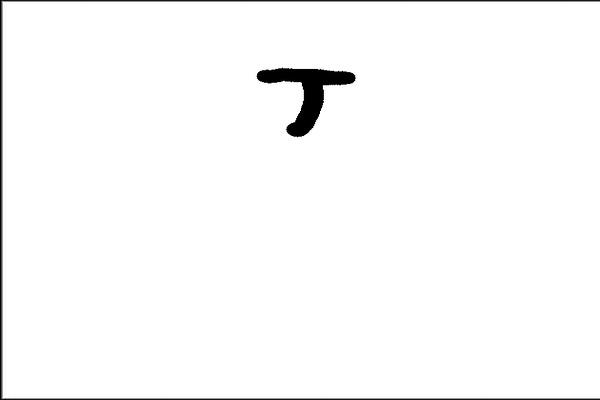T: (255, 56, 359, 139)
